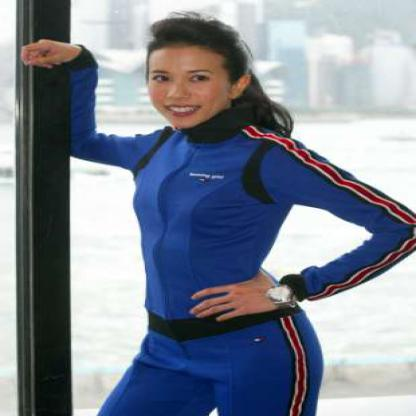face: (147, 28, 236, 129)
